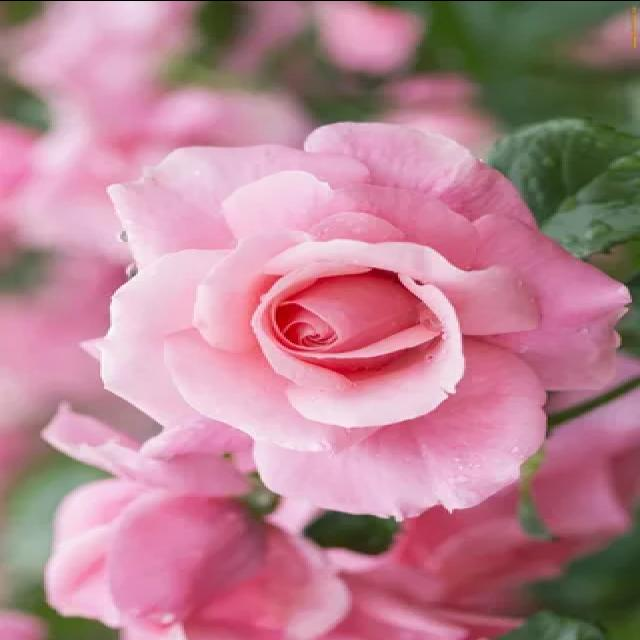rose: (88, 114, 626, 524)
